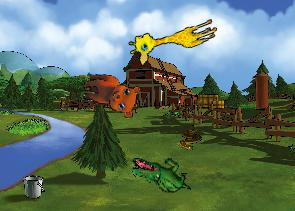bear: (79, 72, 141, 119)
crocodile: (131, 156, 191, 193)
giraffe: (125, 7, 220, 68)
